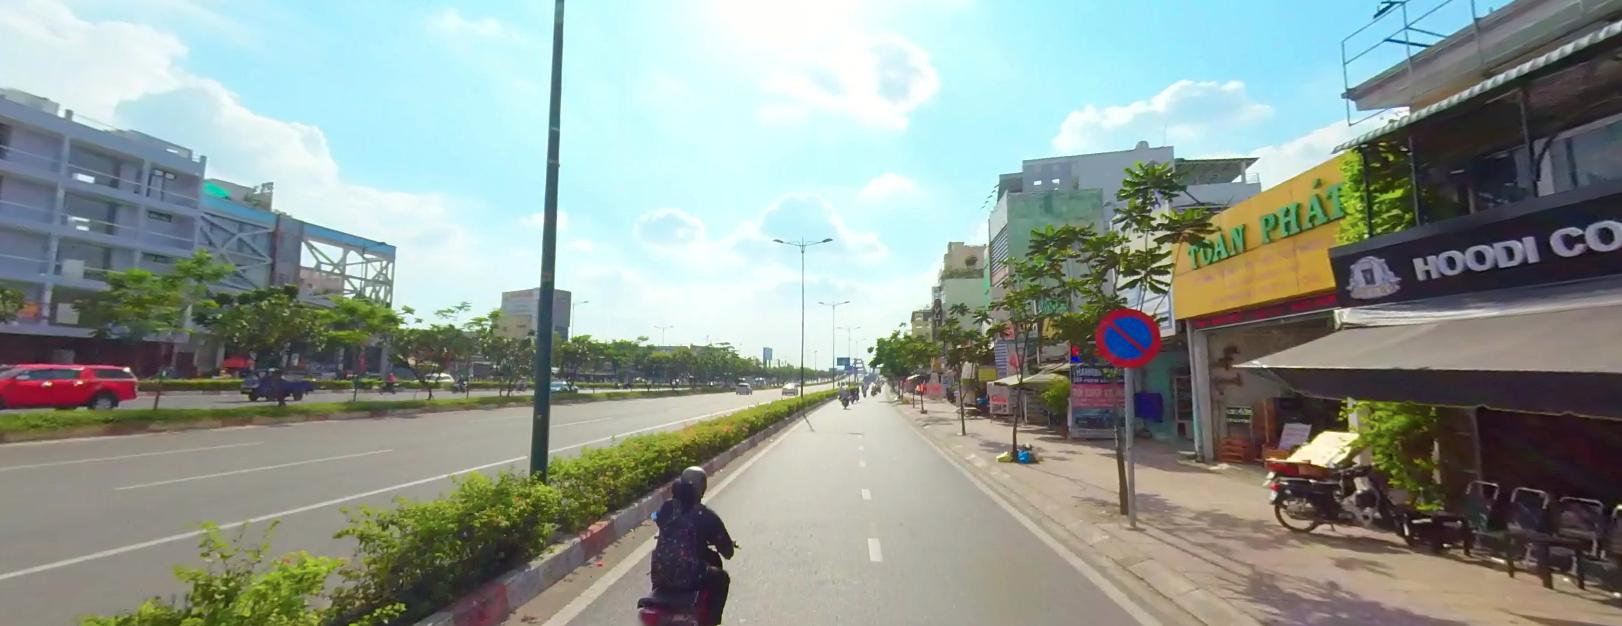Cam dung va do: (1095, 304, 1161, 366)
